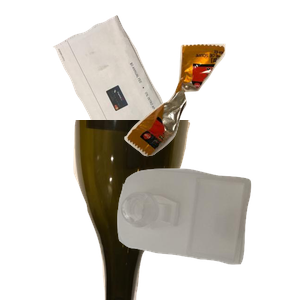glass: (71, 120, 254, 300)
paper: (51, 13, 230, 186)
plastic: (115, 166, 300, 300)
trash: (122, 41, 300, 190)
